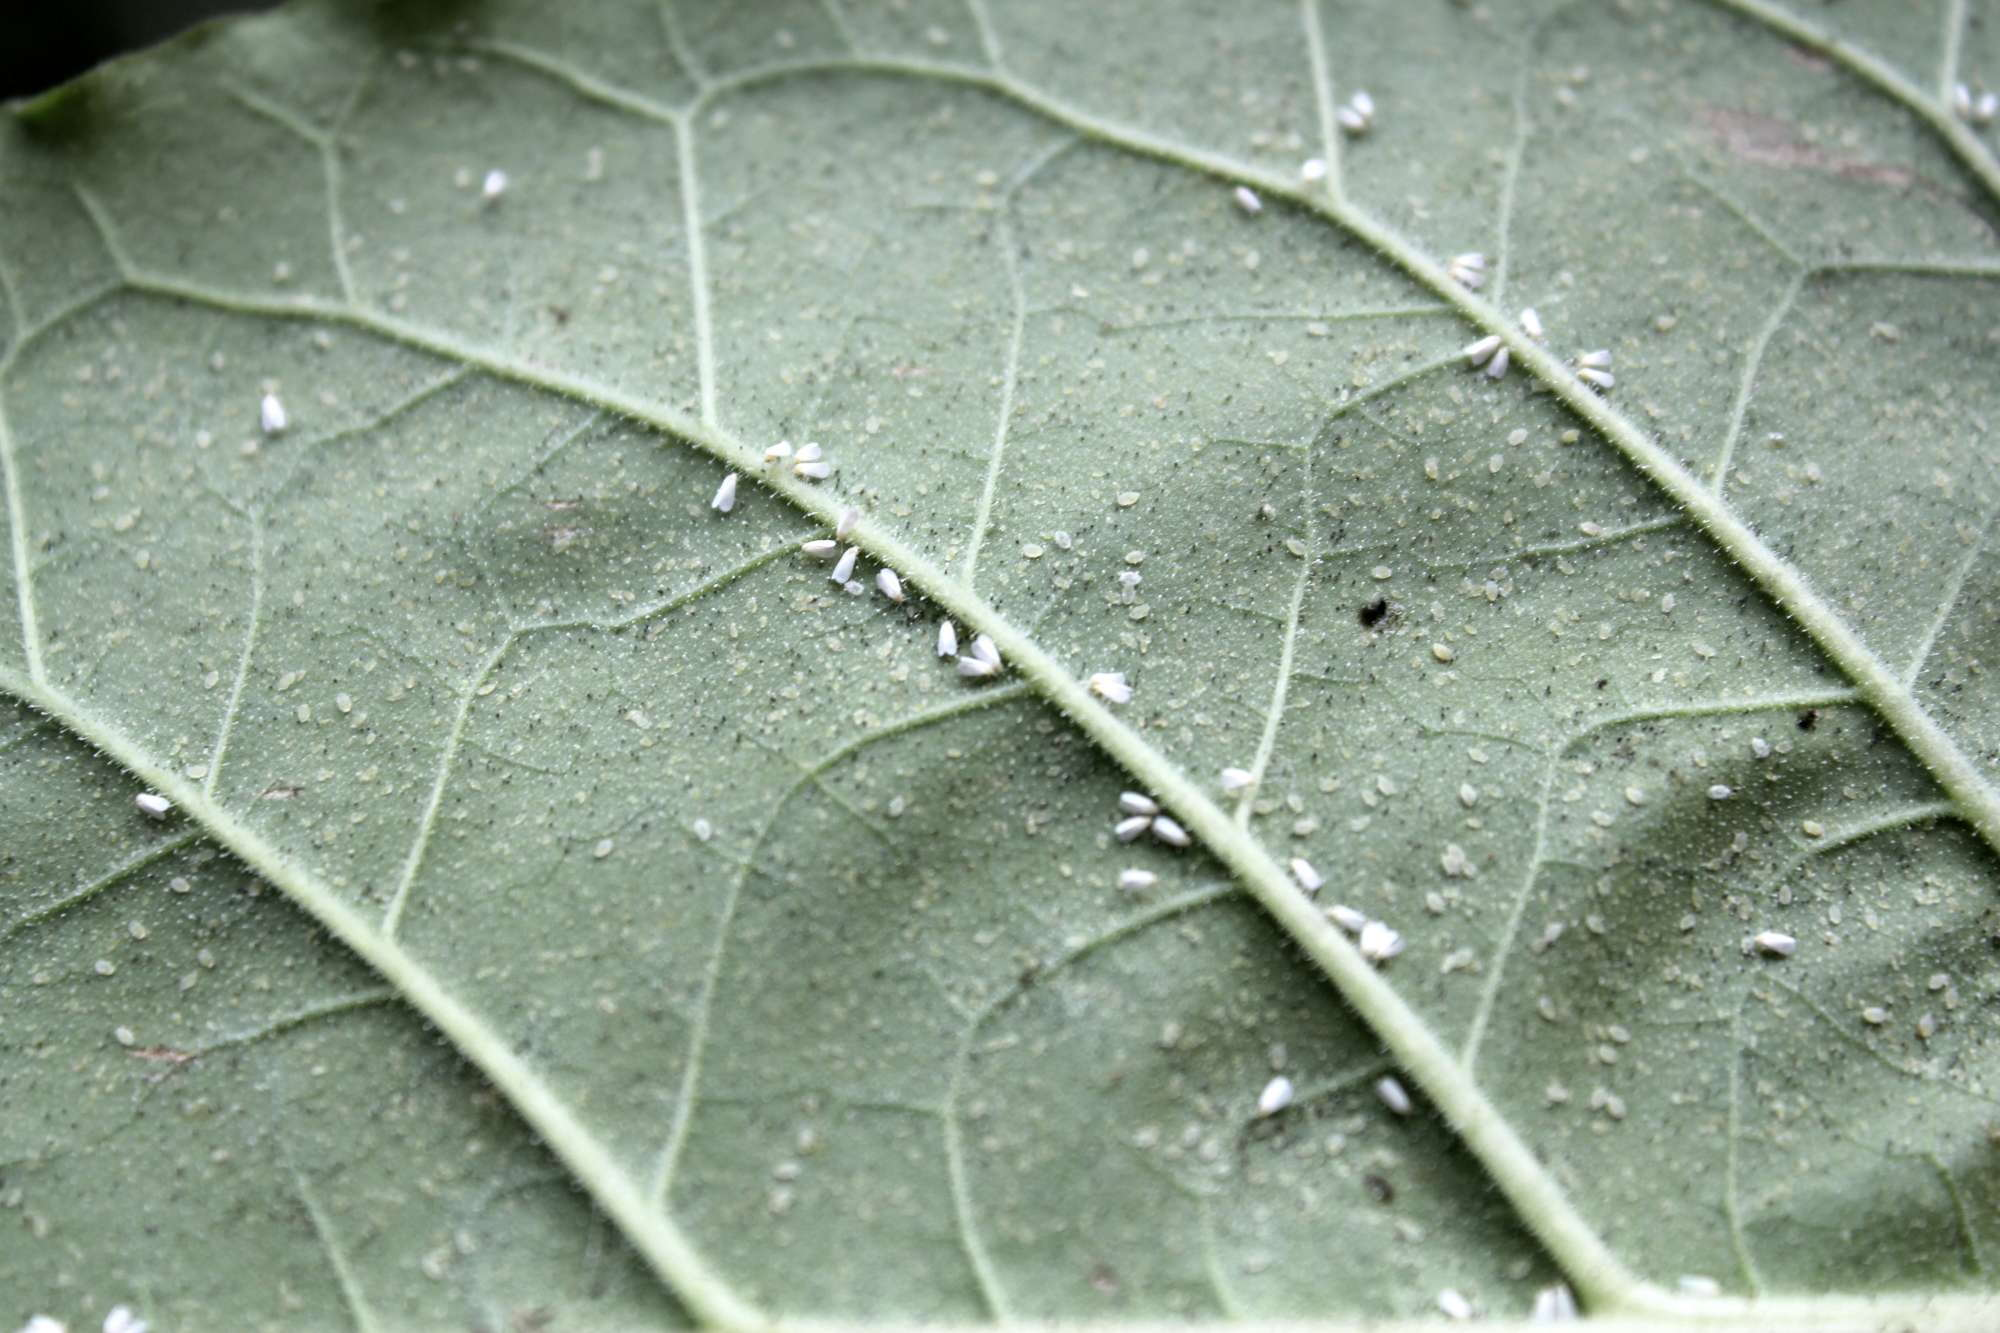Tobacco Whitefly: (695, 459, 759, 523), (835, 532, 857, 603), (926, 612, 950, 663), (879, 568, 915, 599)
